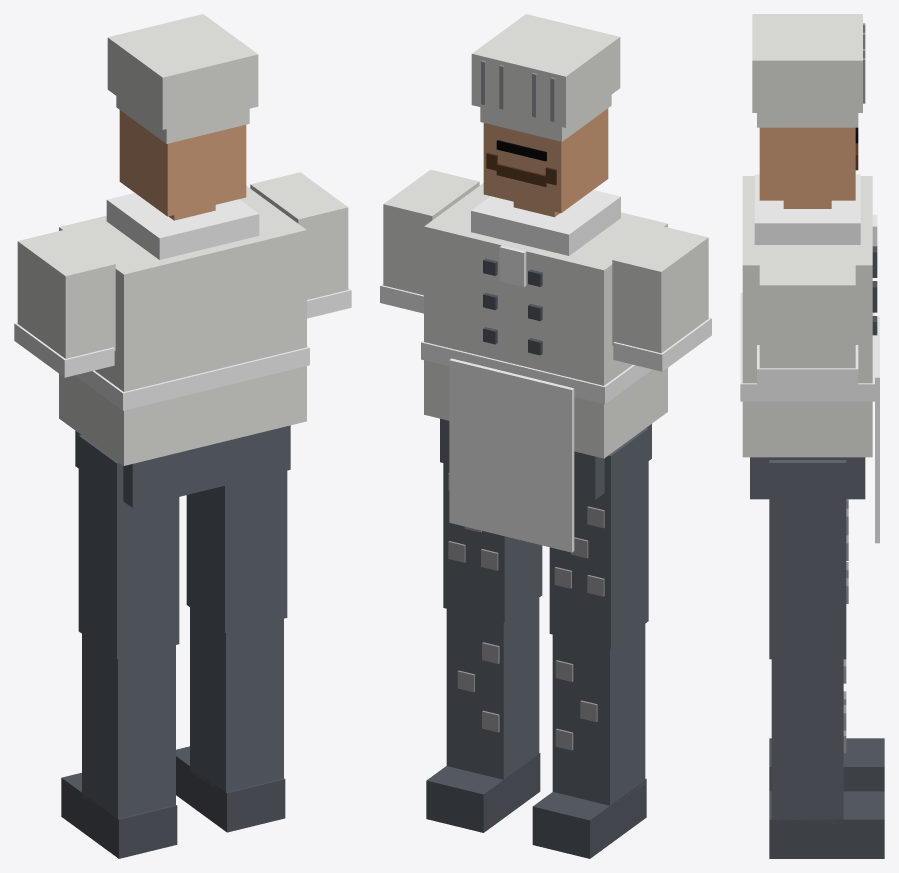
The model's file is CHEF.gltf.
The picture shows the model from 3 angles, left to right: view 1: azimuth 30°, elevation 25°; view 2: azimuth 150°, elevation 25°; view 3: azimuth 270°, elevation 25°; orthographic projection.
Parts seen in each view (by area): view 1: CHEF; view 2: CHEF; view 3: CHEF.
Part boxes in pixels (box(x1,y1,x2,y2)): CHEF: box(14, 14, 351, 858); CHEF: box(380, 14, 711, 858); CHEF: box(740, 14, 884, 858).
Bounding box in the file's own units: 0.69 × 1.79 × 0.3.
